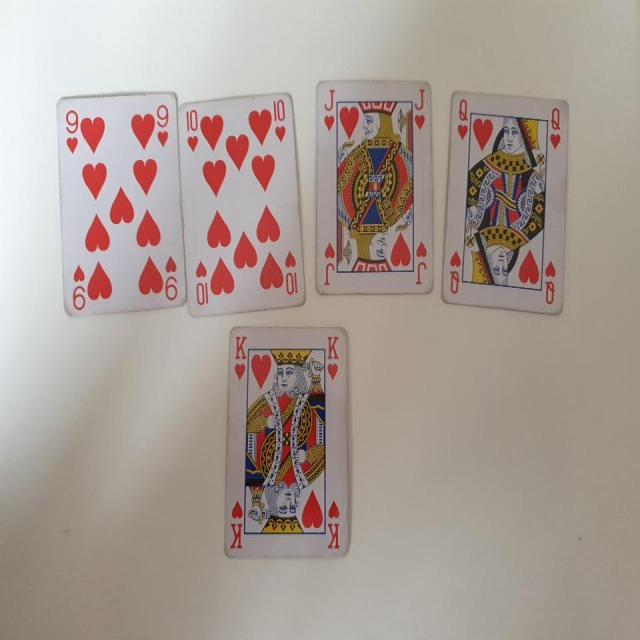10 of hearts: (174, 91, 308, 321)
9 of hearts: (51, 86, 186, 321)
jack of hearts: (311, 69, 438, 298)
king of hearts: (220, 323, 354, 561)
queen of hearts: (438, 76, 576, 321)
